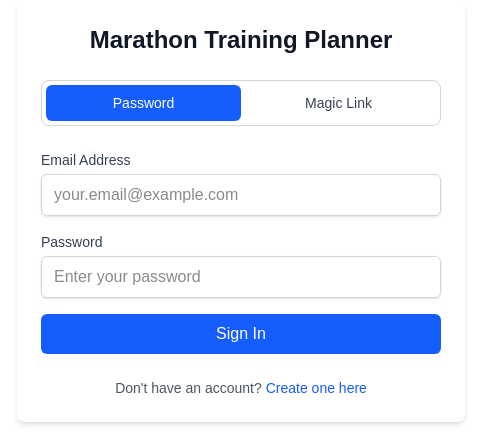
Test: LoginForm › Magic Link Mode › renders magic link form when mode is switched
Step 1. Click the button "Magic Link" → (338, 103), box [241,85,436,121]
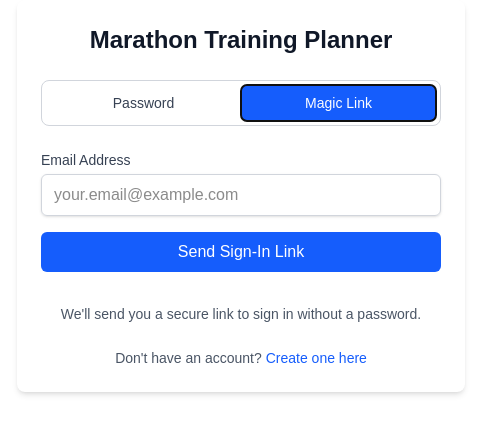
Expected: the field with placeholder "your.email@example.com" is shown, [41,174,441,216]
Result: the button "Send Sign-In Link" is shown at [41,232,441,272]
Result: the text "We'll send you a secure link to sign in without a password." is shown at [41,304,441,324]
